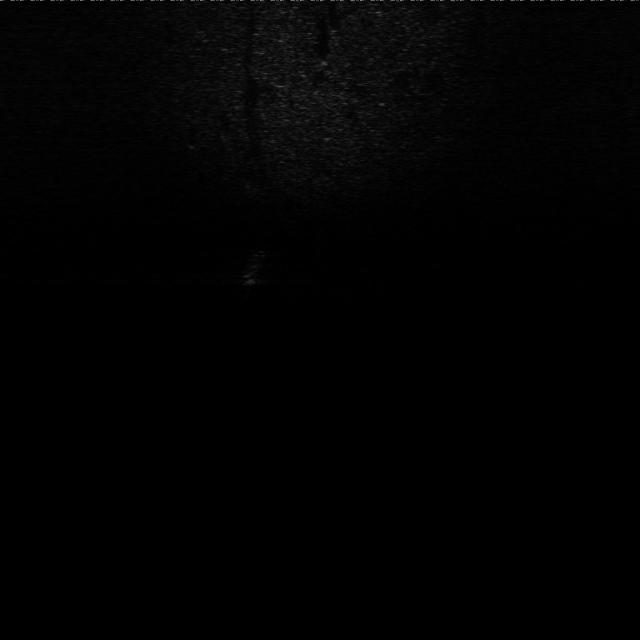human body: (236, 240, 278, 289)
